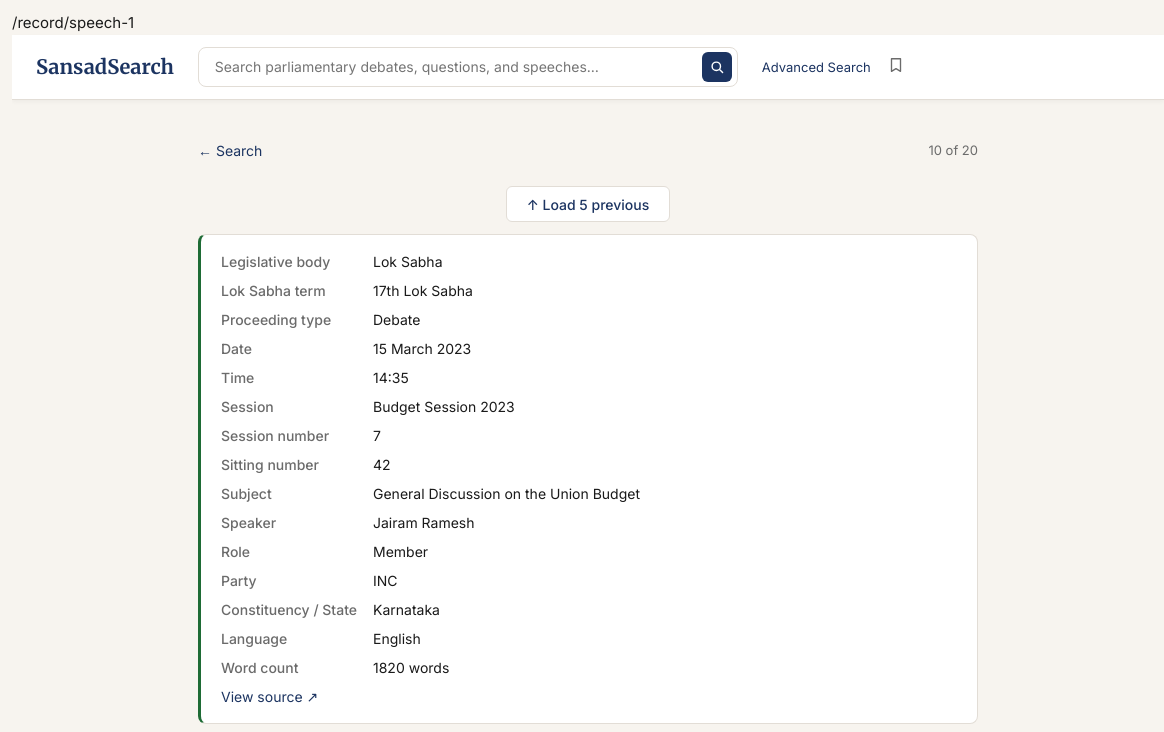
Test: RecordDetail — inline adjacent loading › clicking Load 5 previous prepends records; focal stays in the DOM
Click the button with test id "load-prev-button". click: click(588, 204)
box: [506, 186, 670, 222]
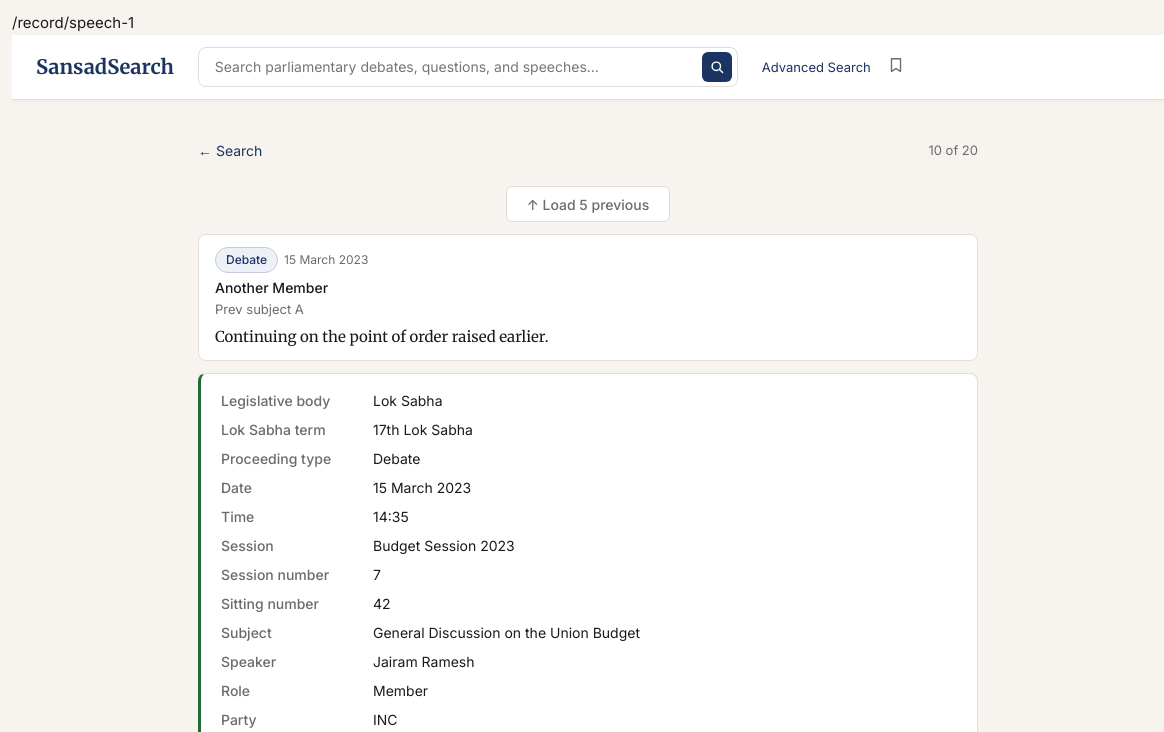
Expected: the text with test id "location-display" reads "/record/speech-1", [12, 13, 134, 32]
Expected: the element with test id "adjacent-record-prev-a" is shown, [198, 234, 978, 361]
